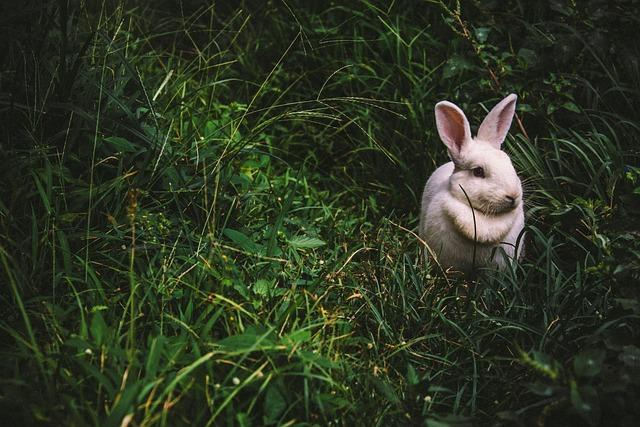Non_Gorille: (18, 0, 640, 427)
